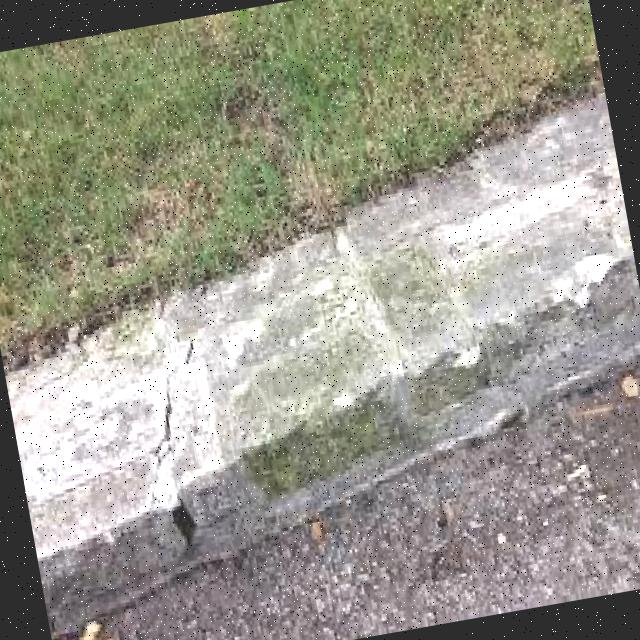curb: (1, 94, 640, 635)
